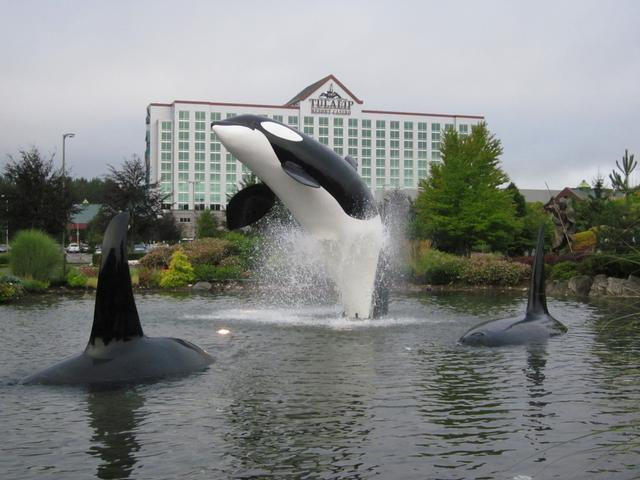dolphin: (177, 78, 421, 325)
